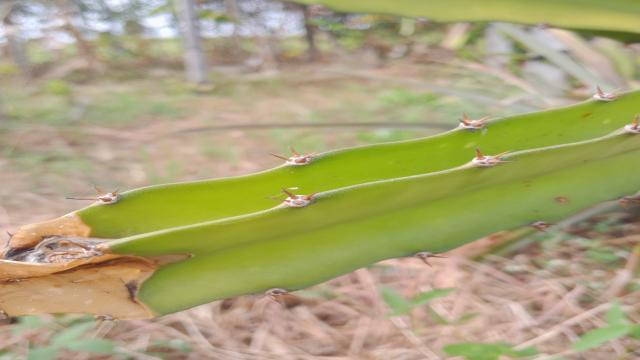stemcanker: (549, 190, 580, 209), (535, 205, 555, 220)
